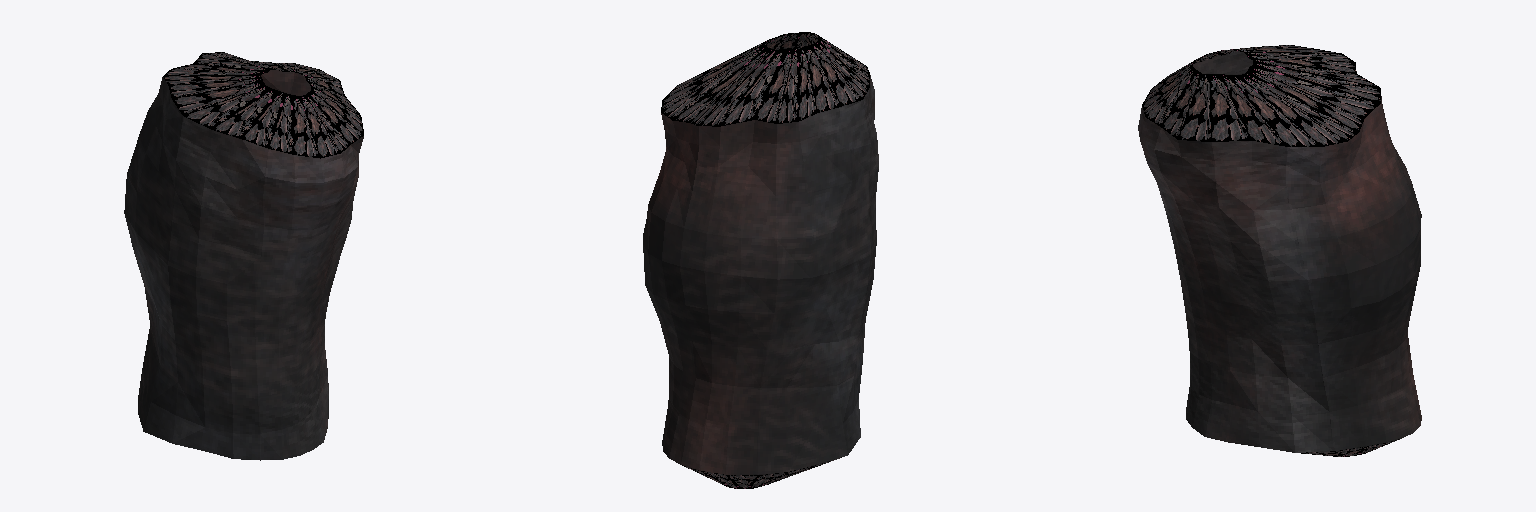
The picture shows the model from 3 angles: view 1: azimuth 30°, elevation 25°; view 2: azimuth 150°, elevation 25°; view 3: azimuth 270°, elevation 25°; orthographic projection.
Parts seen in each view (by area): view 1: Knee_R_Ankle_R_Cut; view 2: Knee_R_Ankle_R_Cut; view 3: Knee_R_Ankle_R_Cut.
Boxes of the visible parts, <box> form: Knee_R_Ankle_R_Cut: <box>124,52,363,460</box>; Knee_R_Ankle_R_Cut: <box>643,32,878,488</box>; Knee_R_Ankle_R_Cut: <box>1138,45,1421,456</box>.
Bounding box in the file's own units: 0.5404 × 1.06 × 0.6902.
1 materials, 1 textured.